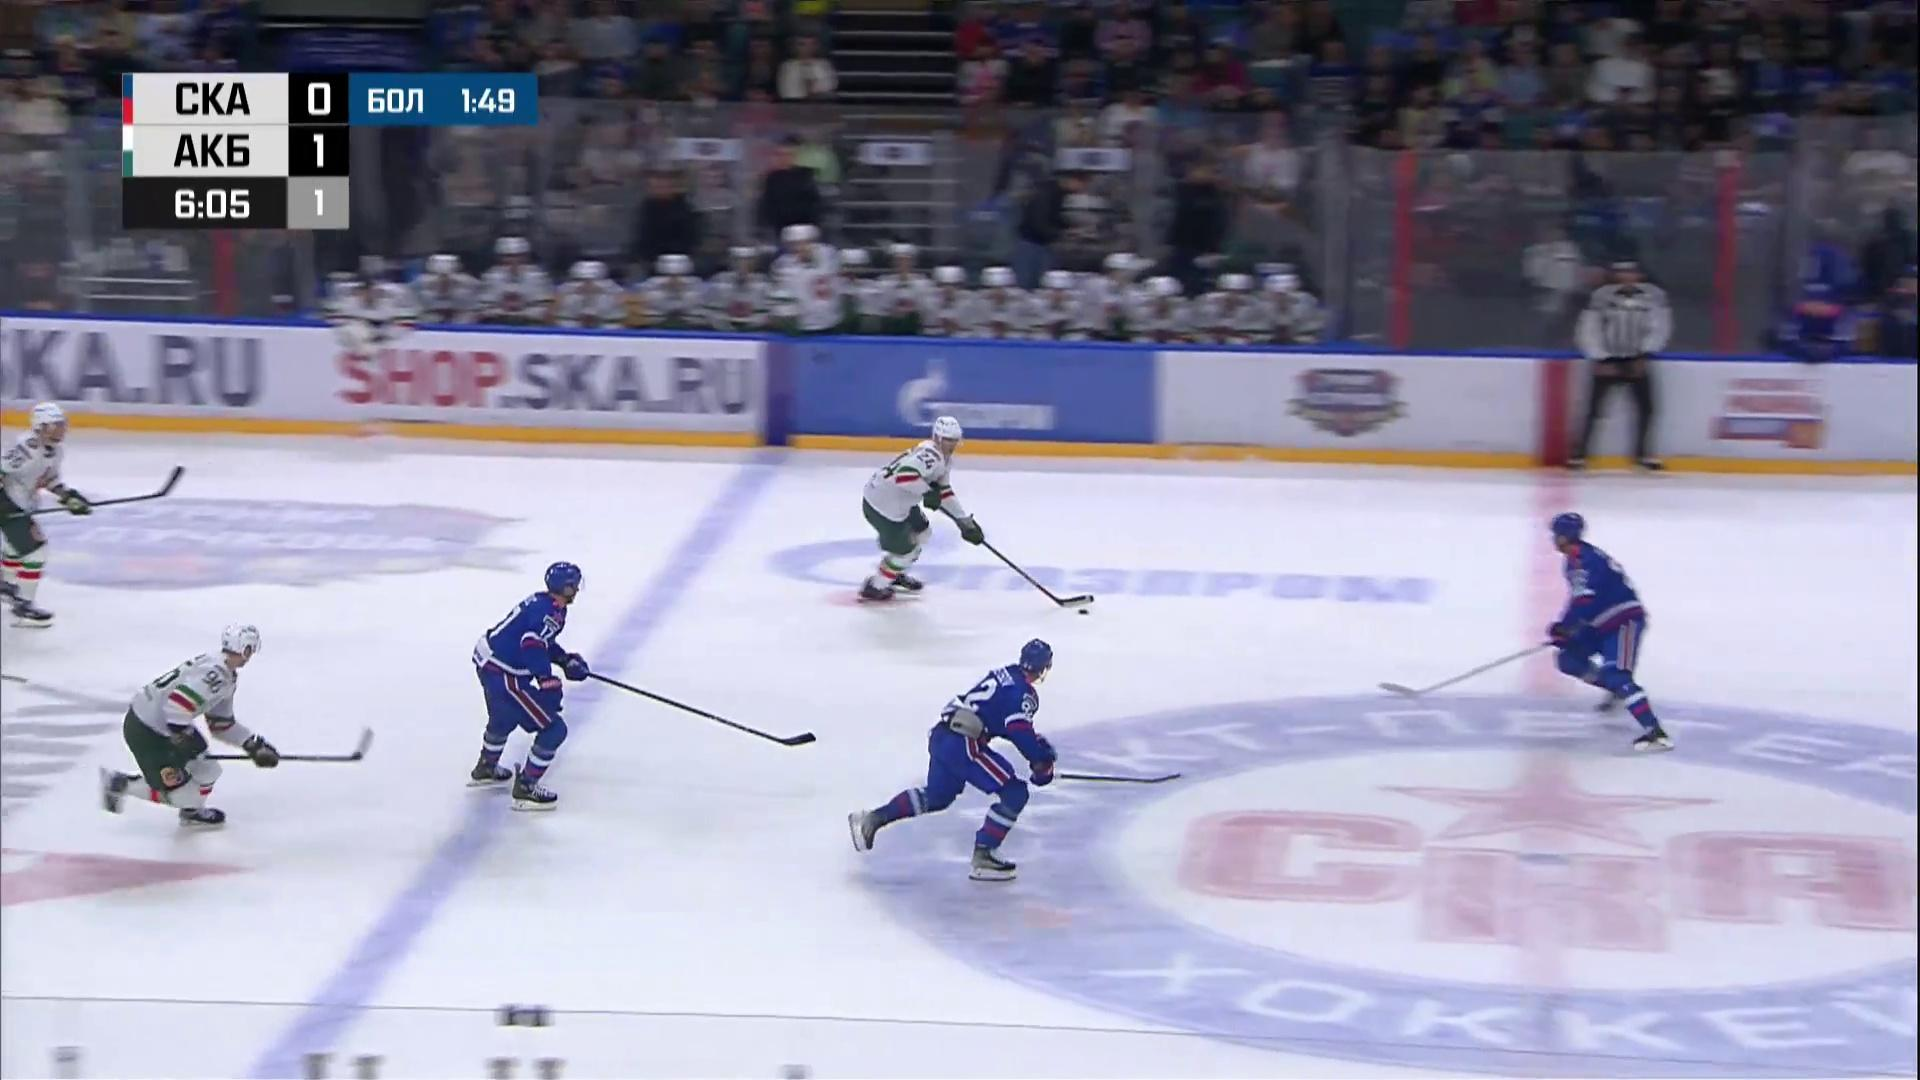ball: (1079, 609, 1088, 616)
